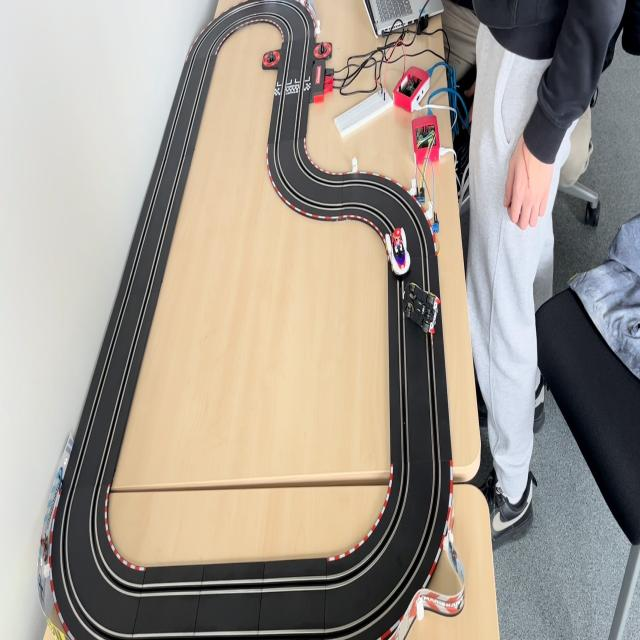mario: (385, 226, 410, 278)
